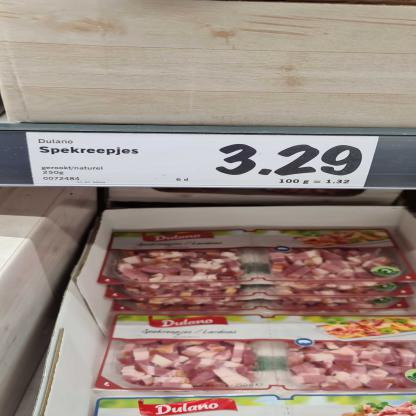prtg: (27, 133, 380, 190)
